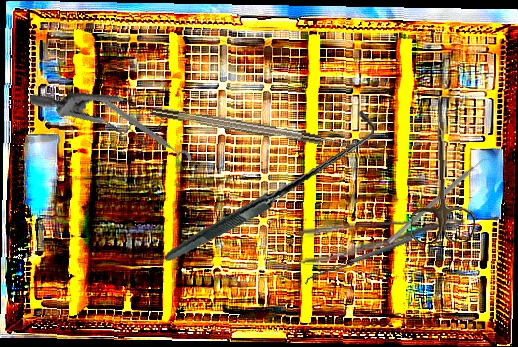Dressing Forceps: (298, 215, 468, 266)
Fixation Ring: (92, 92, 195, 172)
Hook Surgical: (164, 84, 377, 290), (151, 104, 354, 152)
Iris Scissors: (404, 95, 476, 245)
Spatula Surgical: (387, 152, 492, 249), (303, 236, 414, 287)
Speculum: (28, 60, 172, 179)
